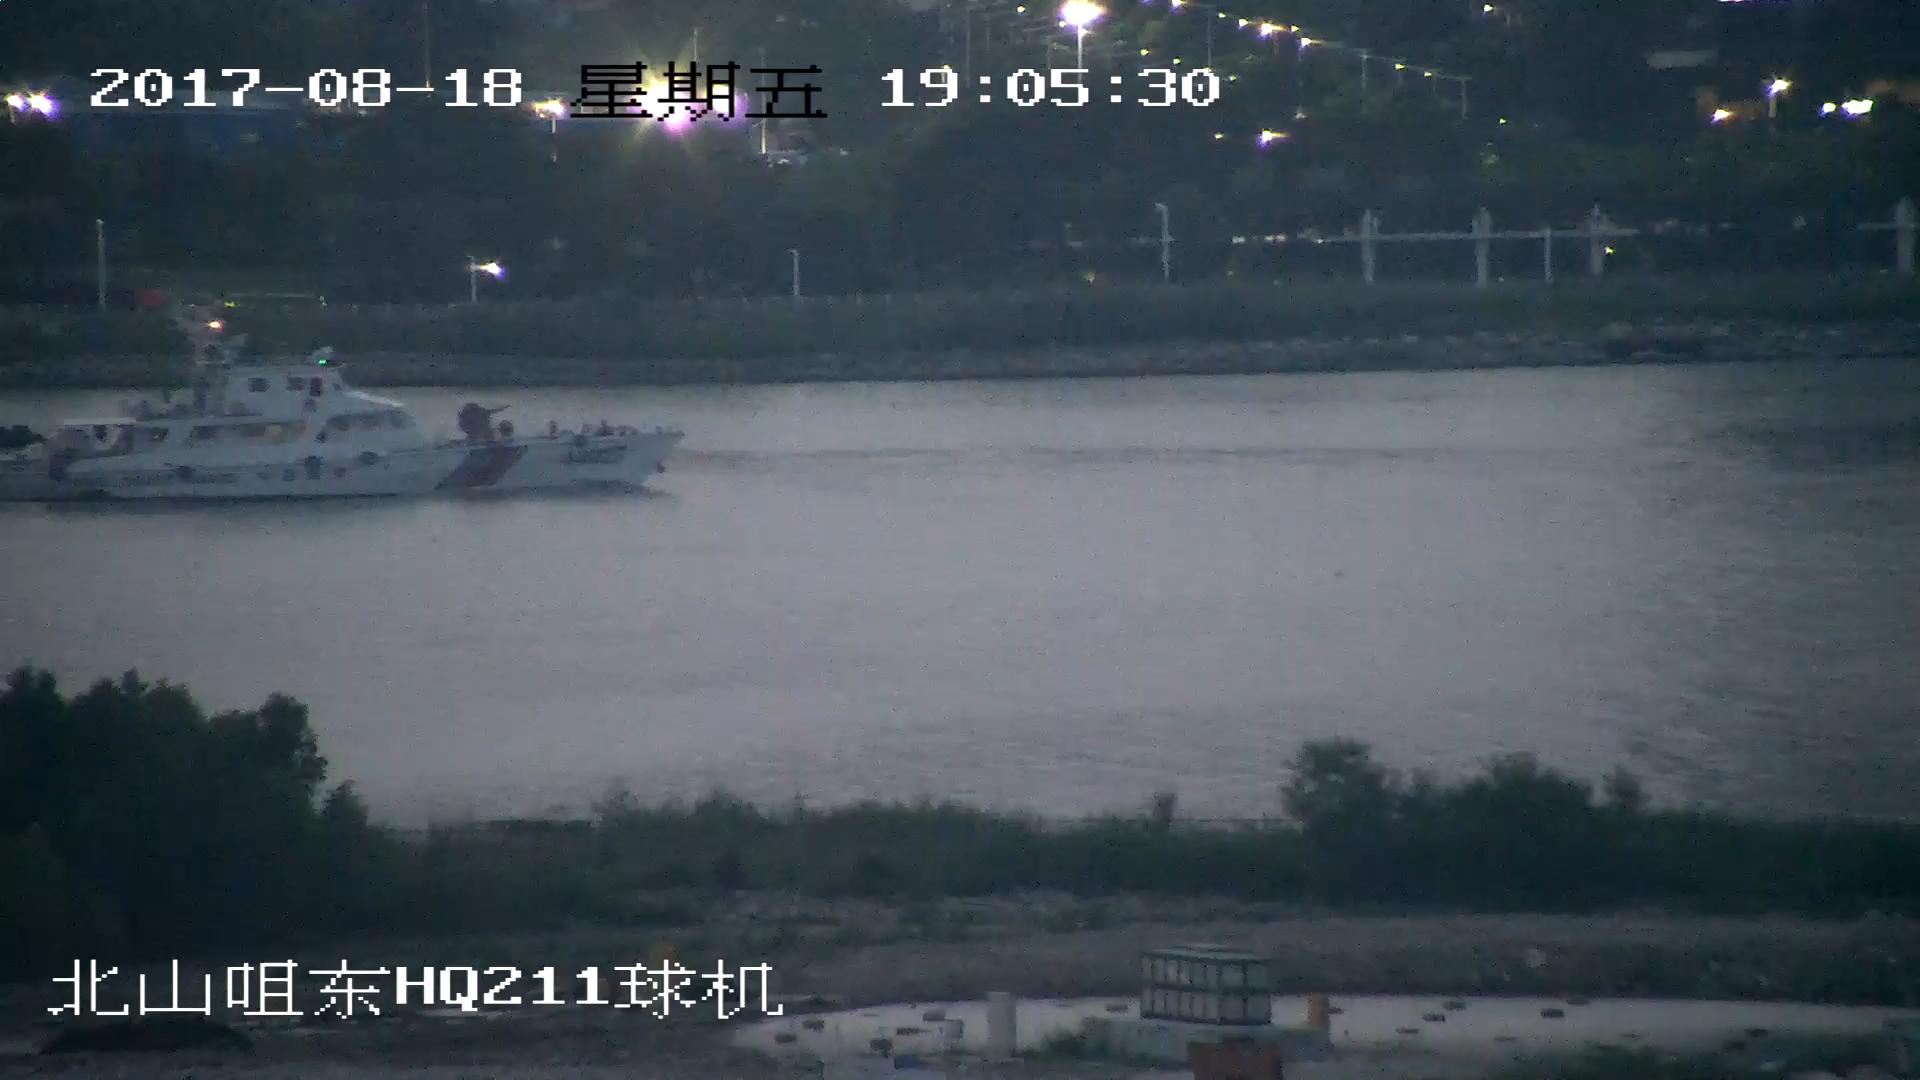passenger ship: (1, 314, 684, 500)
